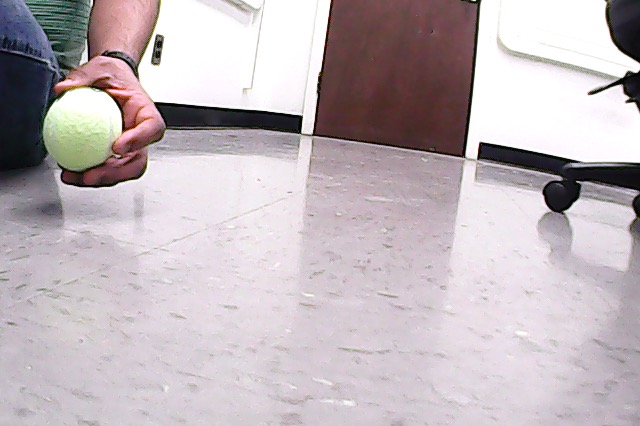ball: (44, 88, 124, 172)
